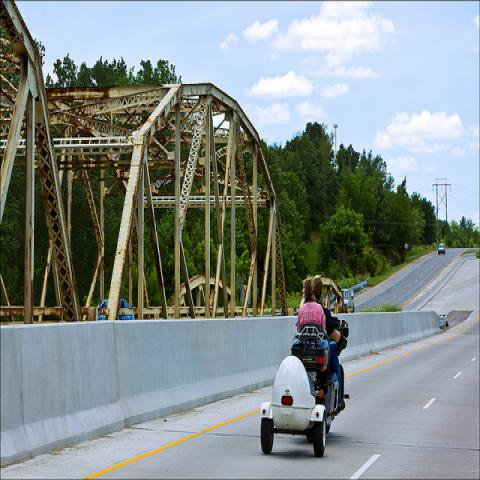car: (97, 299, 135, 322), (342, 288, 355, 312), (438, 243, 446, 256)
motorcycle: (260, 322, 339, 458)
